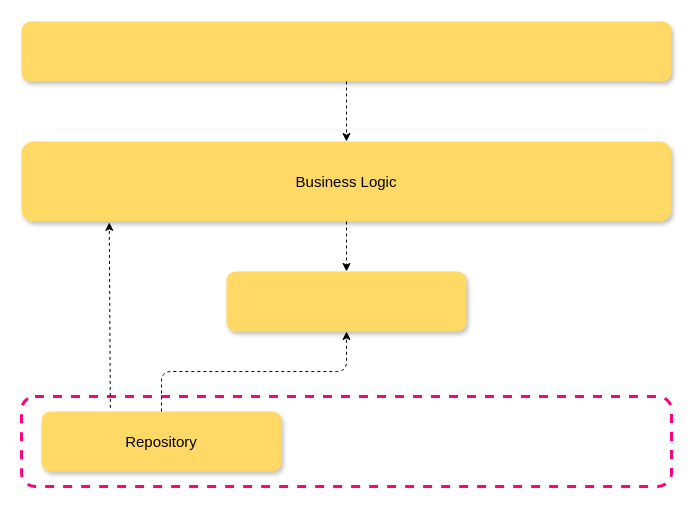
The diagram is 694 pixels wide and 505 high, and some of its shapes have lost their labels. Each missing label, with the centre of its shape:
"API" goes at [347,52].
"Domain" goes at [347,302].
